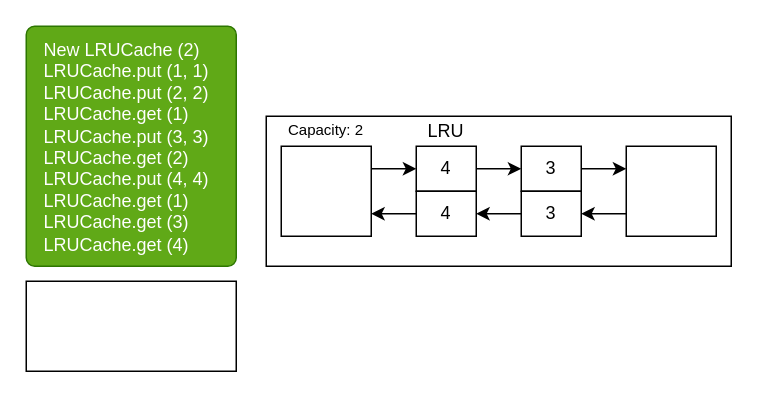
Some shapes in this 758 by 398 pixel diagram are drawn without their labels. Here are the shapes that lost their labels. From the top down, the box of each, then its label:
(280, 145, 371, 236): Head
(625, 145, 716, 236): Tail
(25, 280, 236, 371): output >
